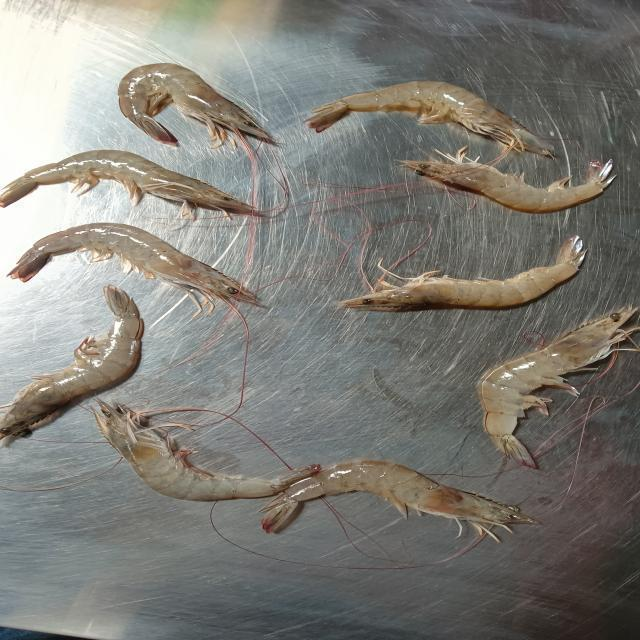shrimp: (478, 312, 626, 468), (91, 404, 322, 501), (0, 288, 142, 438), (11, 222, 257, 304), (263, 460, 531, 531), (341, 238, 584, 311), (312, 81, 549, 155), (0, 150, 255, 215), (405, 151, 613, 212), (120, 64, 270, 145)
